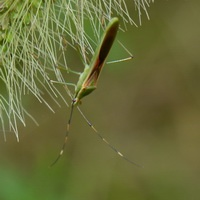insect: (50, 17, 118, 166)
